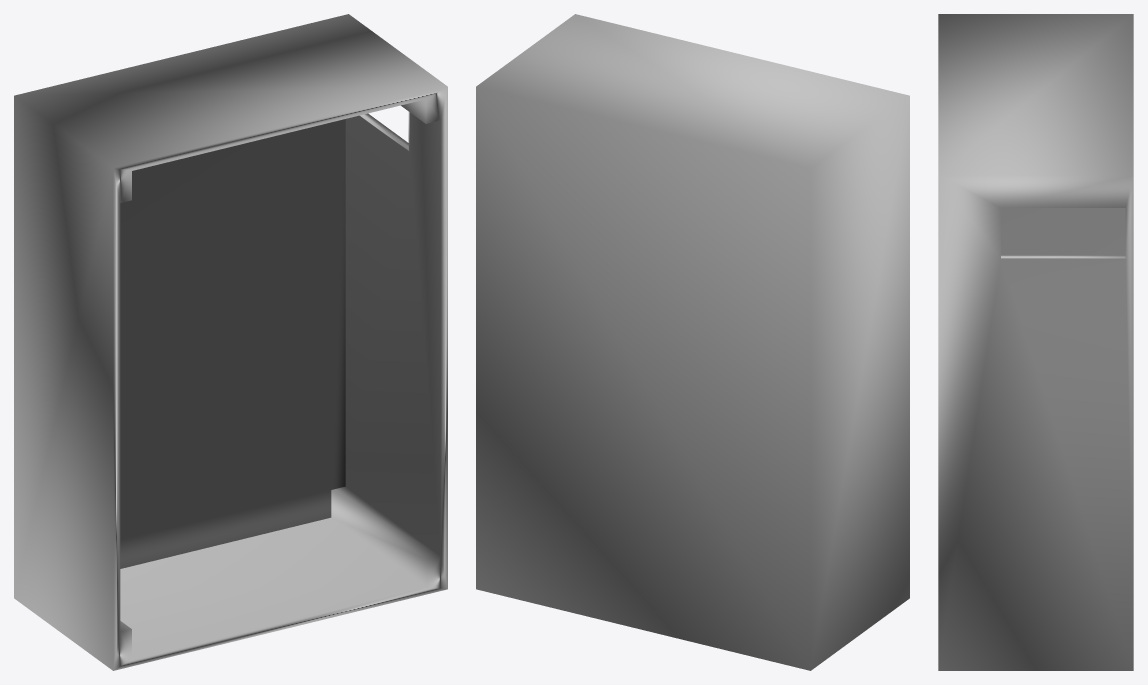
Rendered from hmroom.dae.
The picture shows the model from 3 angles, left to right: view 1: azimuth 30°, elevation 25°; view 2: azimuth 150°, elevation 25°; view 3: azimuth 270°, elevation 25°; orthographic projection.
Visible parts, largest first — view 1: transform1; view 2: transform1; view 3: transform1.
Boxes of the visible parts, x1,y1,x2,y2 form: transform1: [14, 14, 447, 670]; transform1: [476, 14, 909, 670]; transform1: [938, 14, 1133, 670].
Bounding box in the file's own units: 6.1 × 8.76 × 3.13.
1 material, 1 textured.
